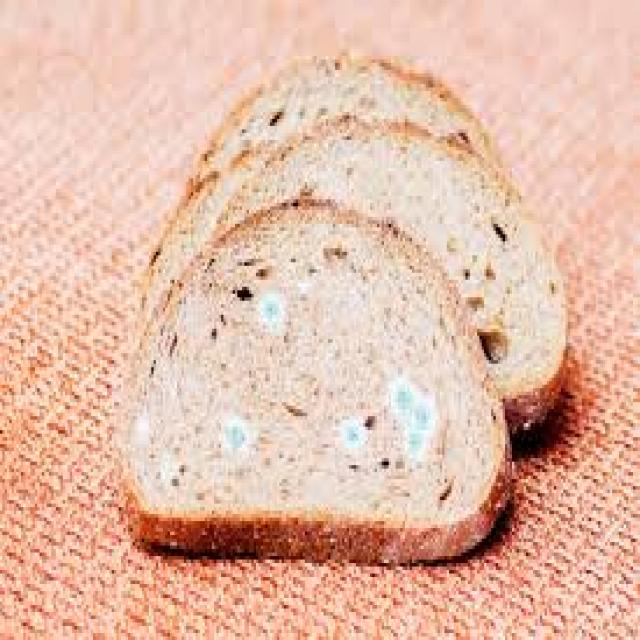organic waste: (119, 196, 507, 556), (209, 108, 568, 427), (200, 49, 519, 210), (133, 140, 277, 346)
